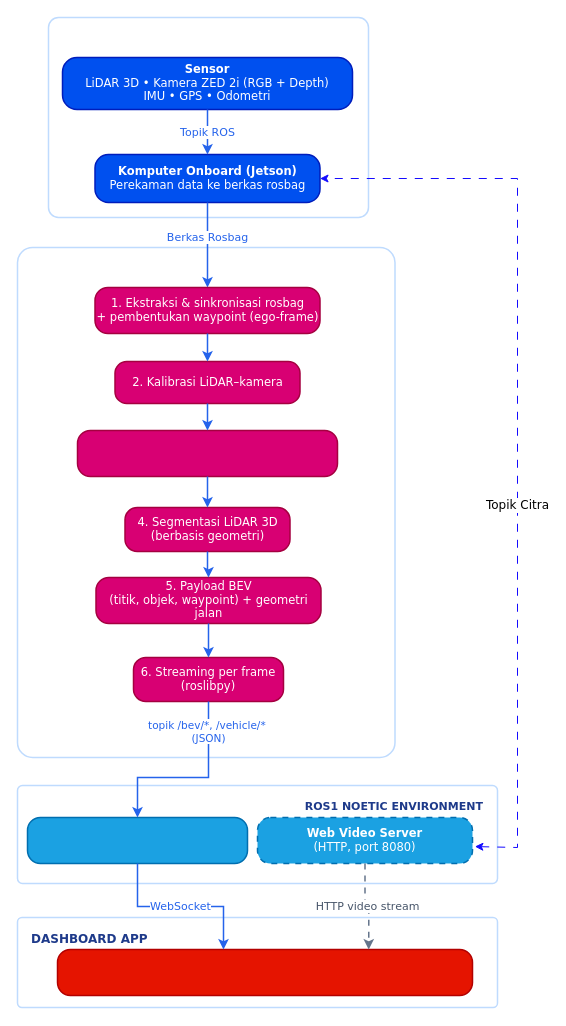
The diagram is 566 pixels wide and 1026 high, and some of its shapes have lost their labels. Here are the shapes that lost their labels. From the top down, the box of each, then its label:
(47, 16, 369, 218): MOBIL MEVI
(76, 429, 338, 477): 3. Deteksi objek YOLO-seg + sensor fusion (RGB, depth, LiDAR)
(16, 246, 395, 758): PEMROSESAN DATA
(26, 816, 248, 864): Rosbridge Server (WebSocket, port 9090)
(56, 948, 473, 996): Flutter UI BEV 3D animasi • BEV point cloud • Peta & navigasi • Grafik
